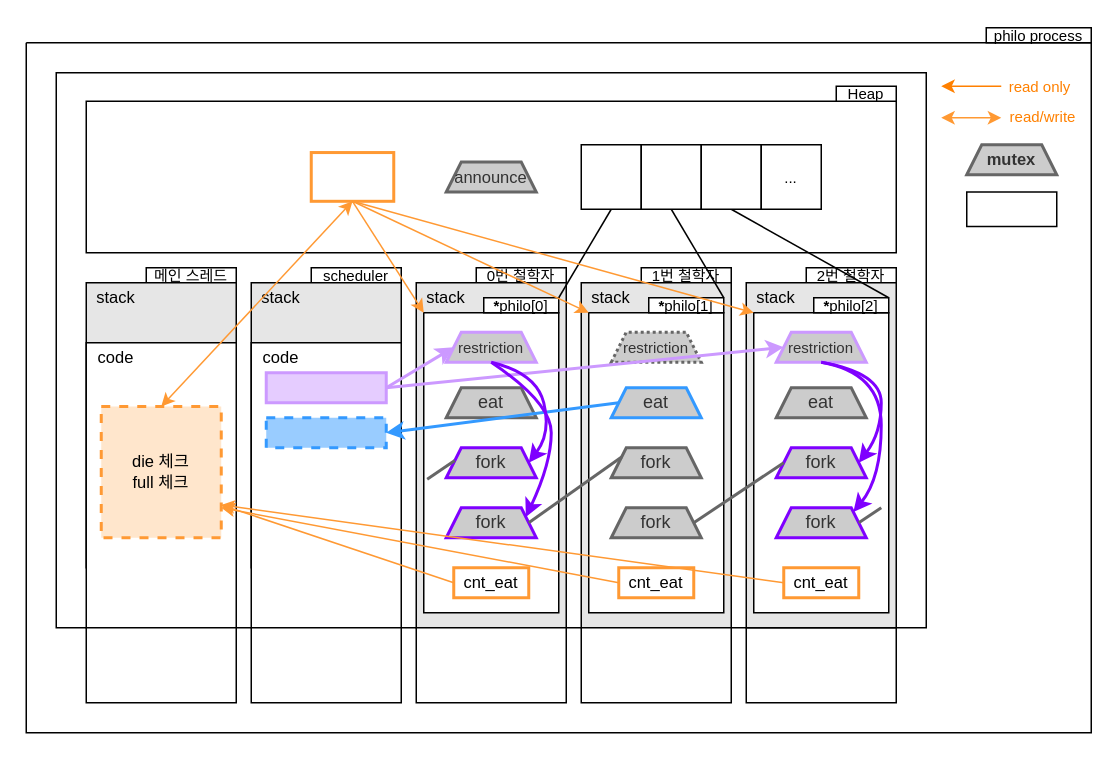
This 1118x759 diagram has some shape labels left out. Here are the shapes that lost their labels. From the top down, the box of each, then its label:
(309, 150, 394, 202): is_die
(580, 143, 641, 209): phlio[0]
(640, 143, 701, 209): phlio[1]
(700, 143, 761, 209): phlio[2]
(965, 190, 1057, 226): memory
(264, 370, 387, 404): unlock 0번 2번
(264, 416, 387, 448): lock(대기) 1번
